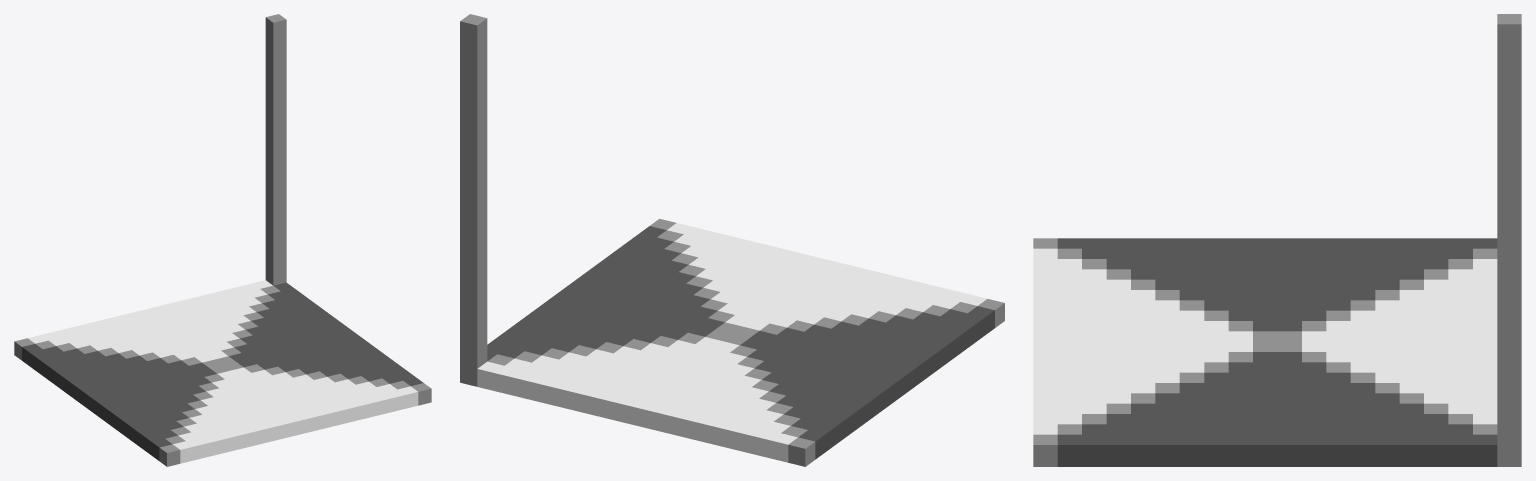
File: Test Airport-4.obj
3 renders of one model, left to right at view 1: azimuth 30°, elevation 25°; view 2: azimuth 150°, elevation 25°; view 3: azimuth 270°, elevation 25°, orthographic. The views are drawn at different scales.
Parts seen in each view (by area): view 1: Test Airport-4; view 2: Test Airport-4; view 3: Test Airport-4.
Boxes of the visible parts, left/top/right/bottom form: Test Airport-4: left=14, top=14, right=431, bottom=466; Test Airport-4: left=460, top=14, right=1004, bottom=466; Test Airport-4: left=1033, top=14, right=1521, bottom=466.
Size of the model in its own units: 20 by 20 by 20.
Materials: 1 (1 with a texture image).
